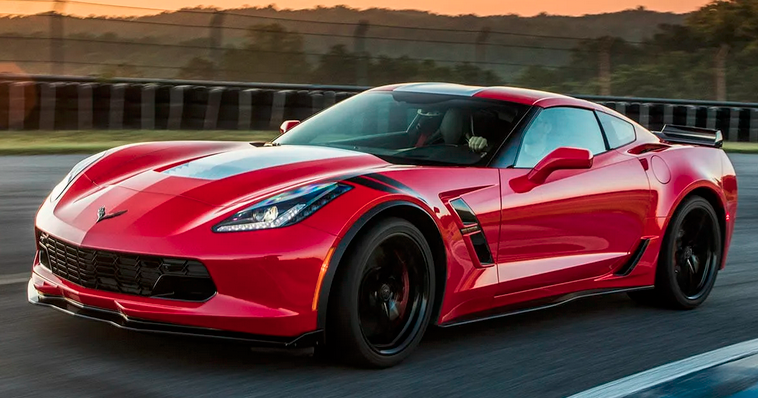car: (30, 42, 748, 366)
